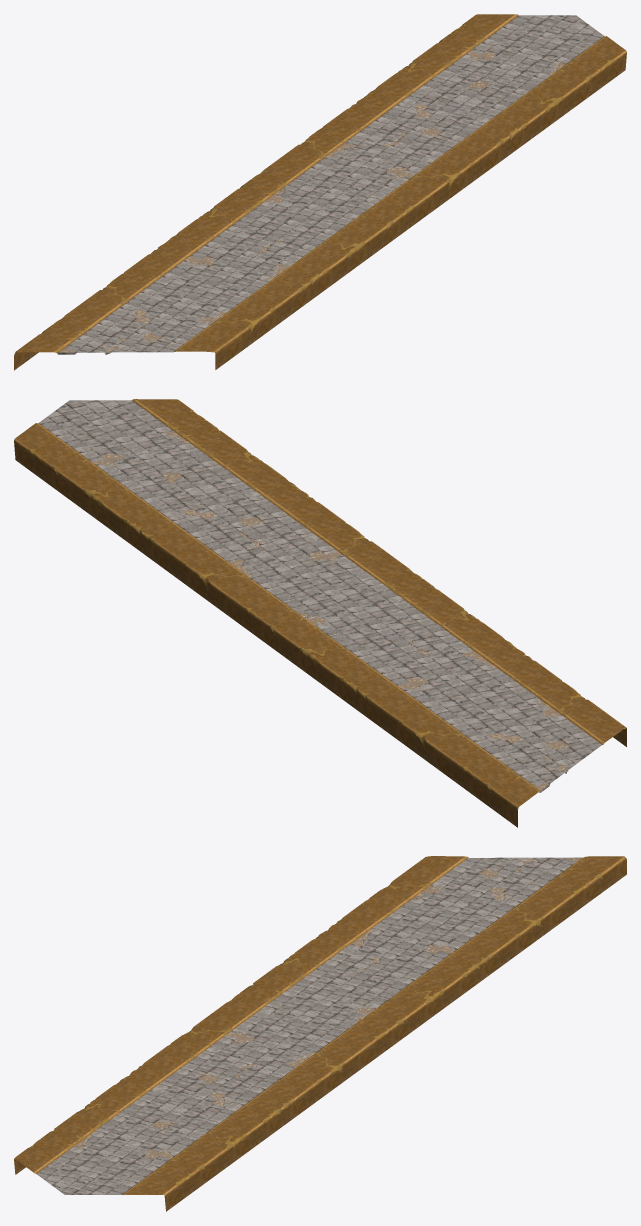
3 renders of one model, top to bottom at view 1: azimuth 90°, elevation 25°; view 2: azimuth 150°, elevation 25°; view 3: azimuth 270°, elevation 25°, orthographic. The views are drawn at different scales.
Parts seen in each view (by area): view 1: SM_Nightmare_Crucible_Arena_Side_Section_ThinB_01v1_LOD0; view 2: SM_Nightmare_Crucible_Arena_Side_Section_ThinB_01v1_LOD0; view 3: SM_Nightmare_Crucible_Arena_Side_Section_ThinB_01v1_LOD0.
Boxes of the visible parts, x1,y1,x2,y2 form: SM_Nightmare_Crucible_Arena_Side_Section_ThinB_01v1_LOD0: [14, 14, 626, 370]; SM_Nightmare_Crucible_Arena_Side_Section_ThinB_01v1_LOD0: [14, 399, 626, 827]; SM_Nightmare_Crucible_Arena_Side_Section_ThinB_01v1_LOD0: [14, 856, 626, 1211].
Size of the model in its own units: 92.33 by 2.38 by 70.66.
4 materials, 4 textured.
